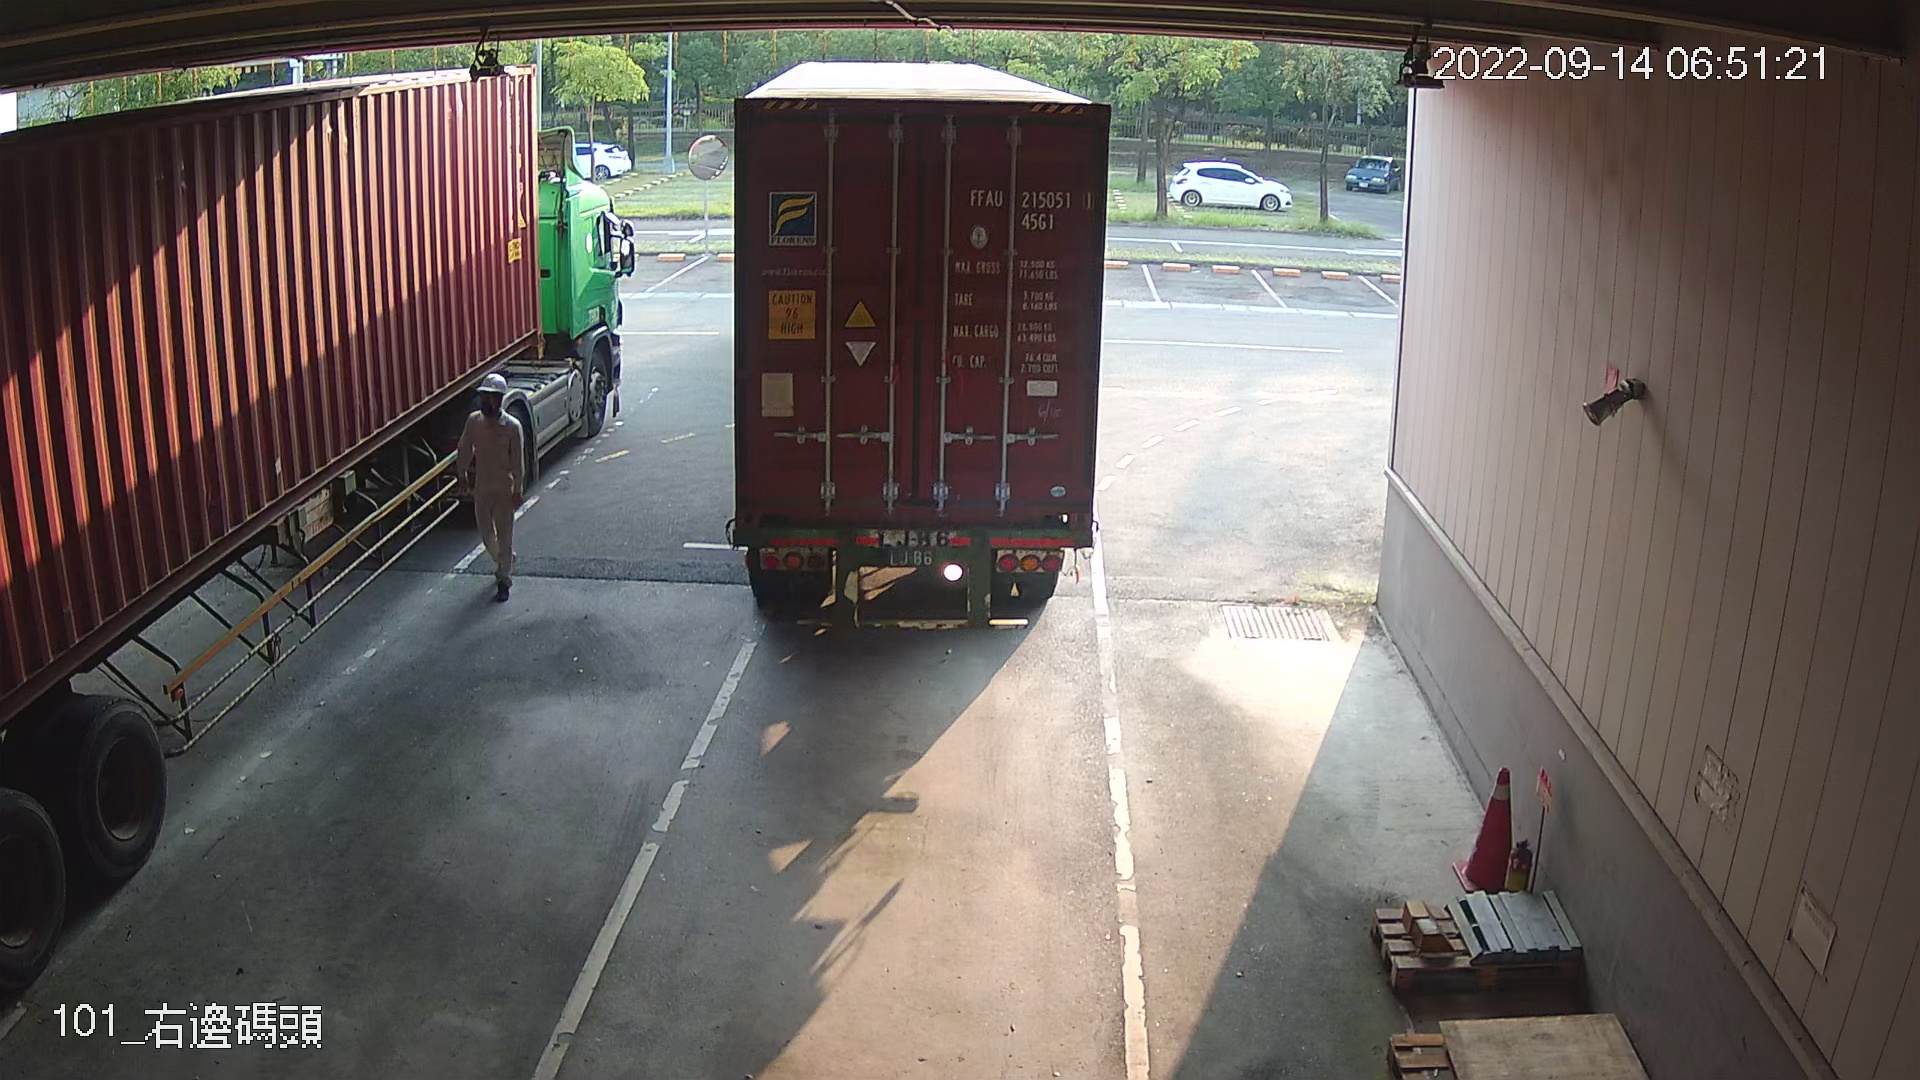container: (960, 179, 1100, 236)
